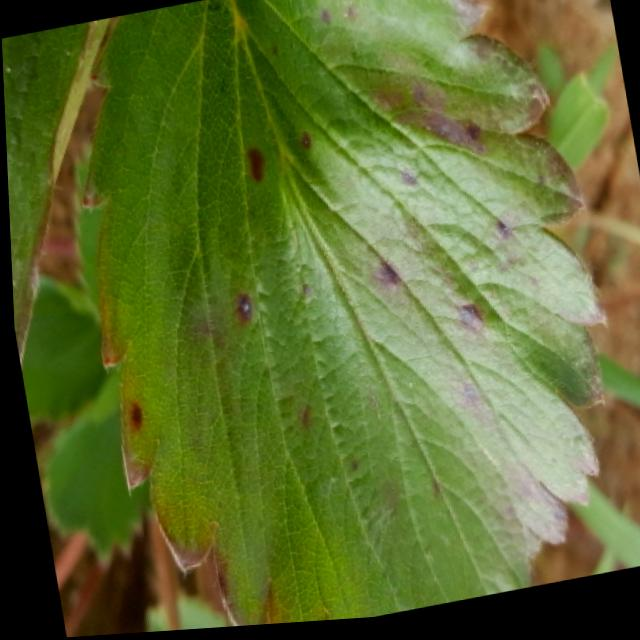Leaf Spot: (77, 0, 607, 629), (1, 18, 110, 380)
